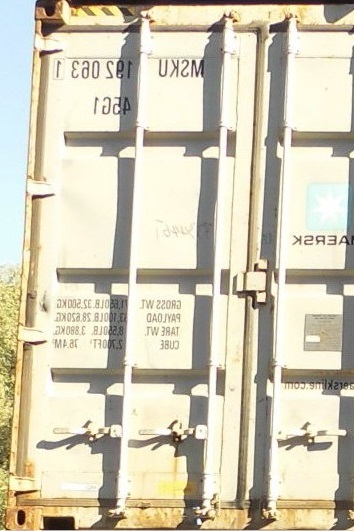container_door: (8, 7, 354, 525)
